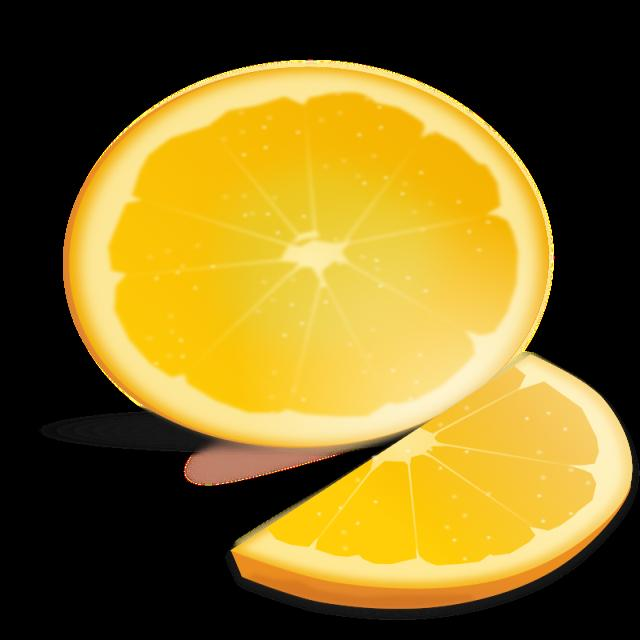orange: (58, 64, 508, 450), (232, 385, 639, 602)
